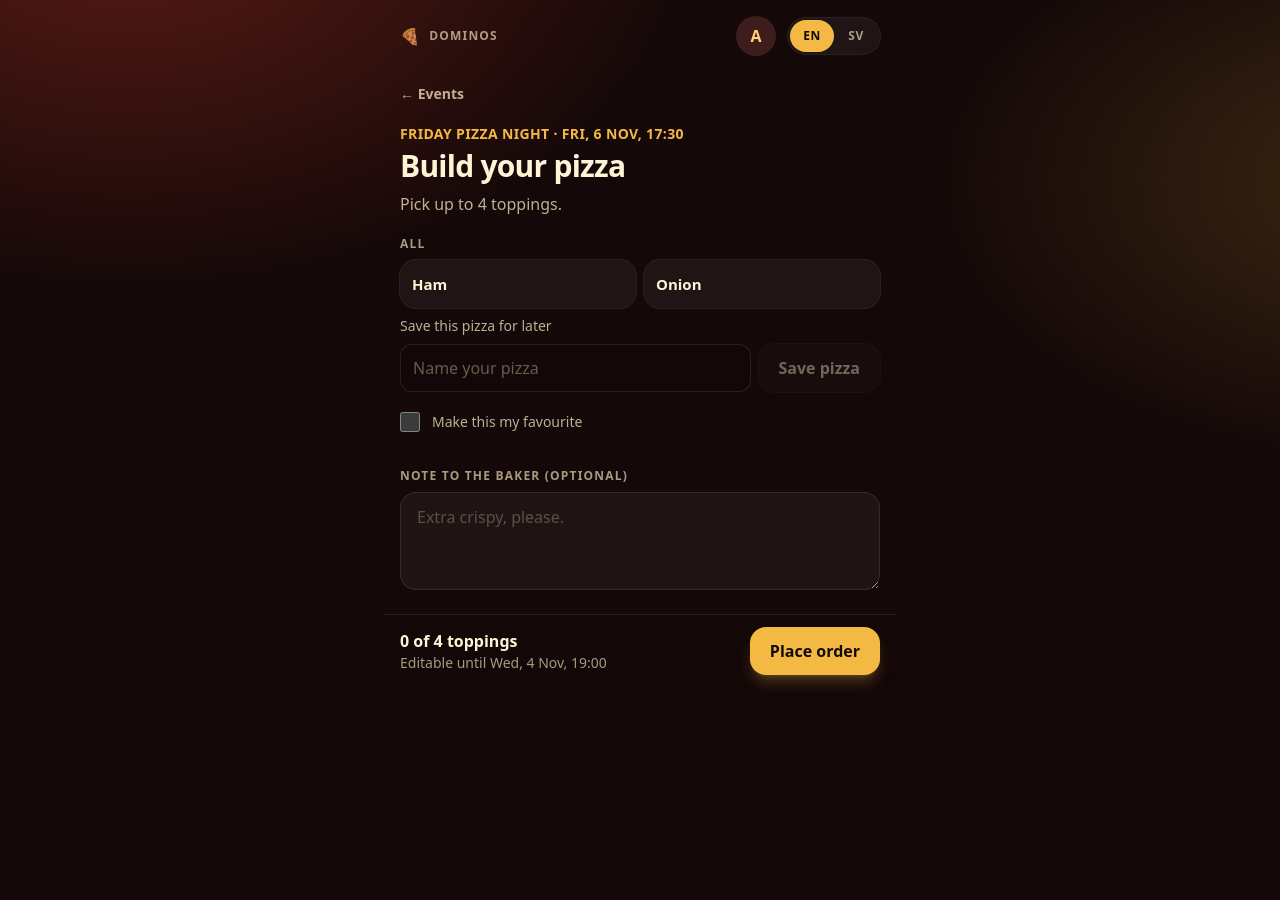
Test case: saved pizzas in the builder › can be saved by name without sending the order
This screenshot has width=1280, height=900.
Click the button "Ham" at (518, 284), box [400,260,636,308]
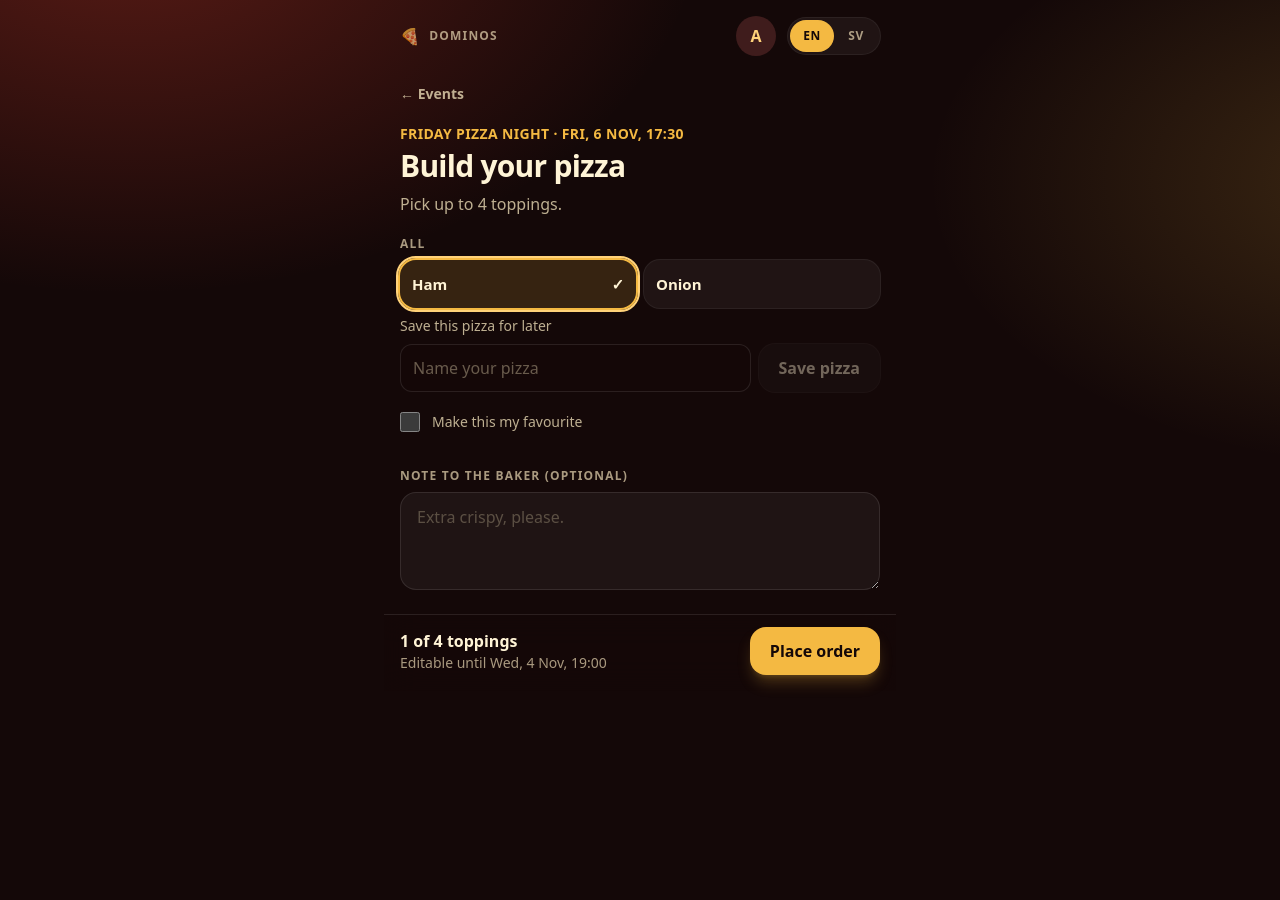
Type "Hammy" into the field labelled "Save this pizza for later" at (575, 368), box [400,344,750,392]
Then press Enter
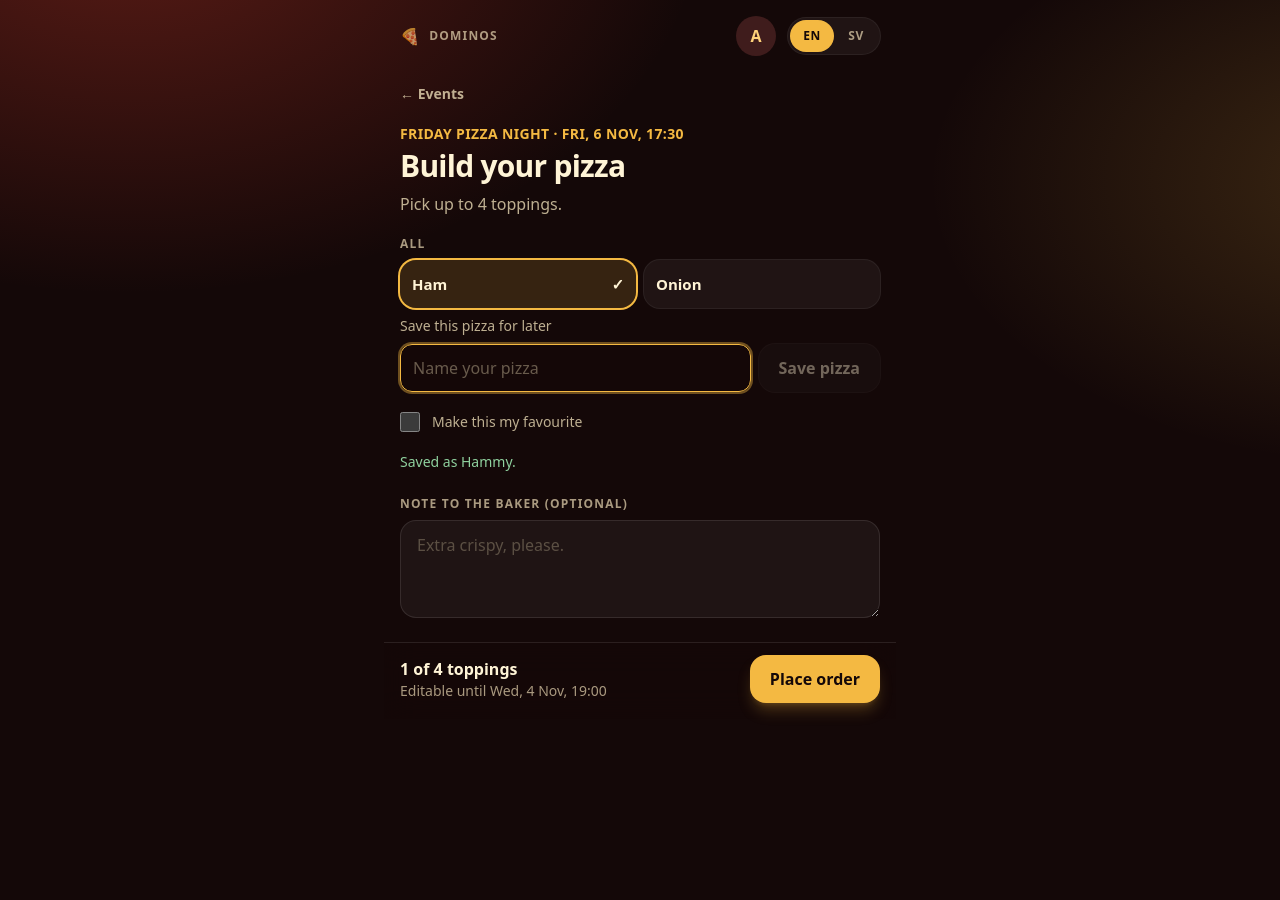
Expected: the text "Saved as Hammy." is shown, [400,452,516,471]
